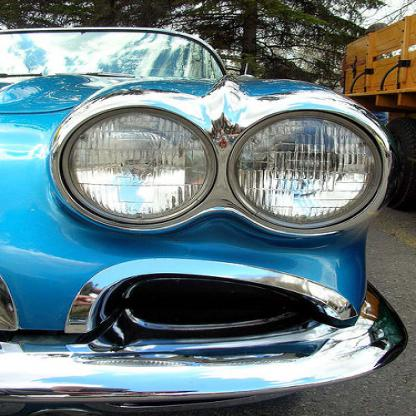car: (0, 26, 408, 415)
